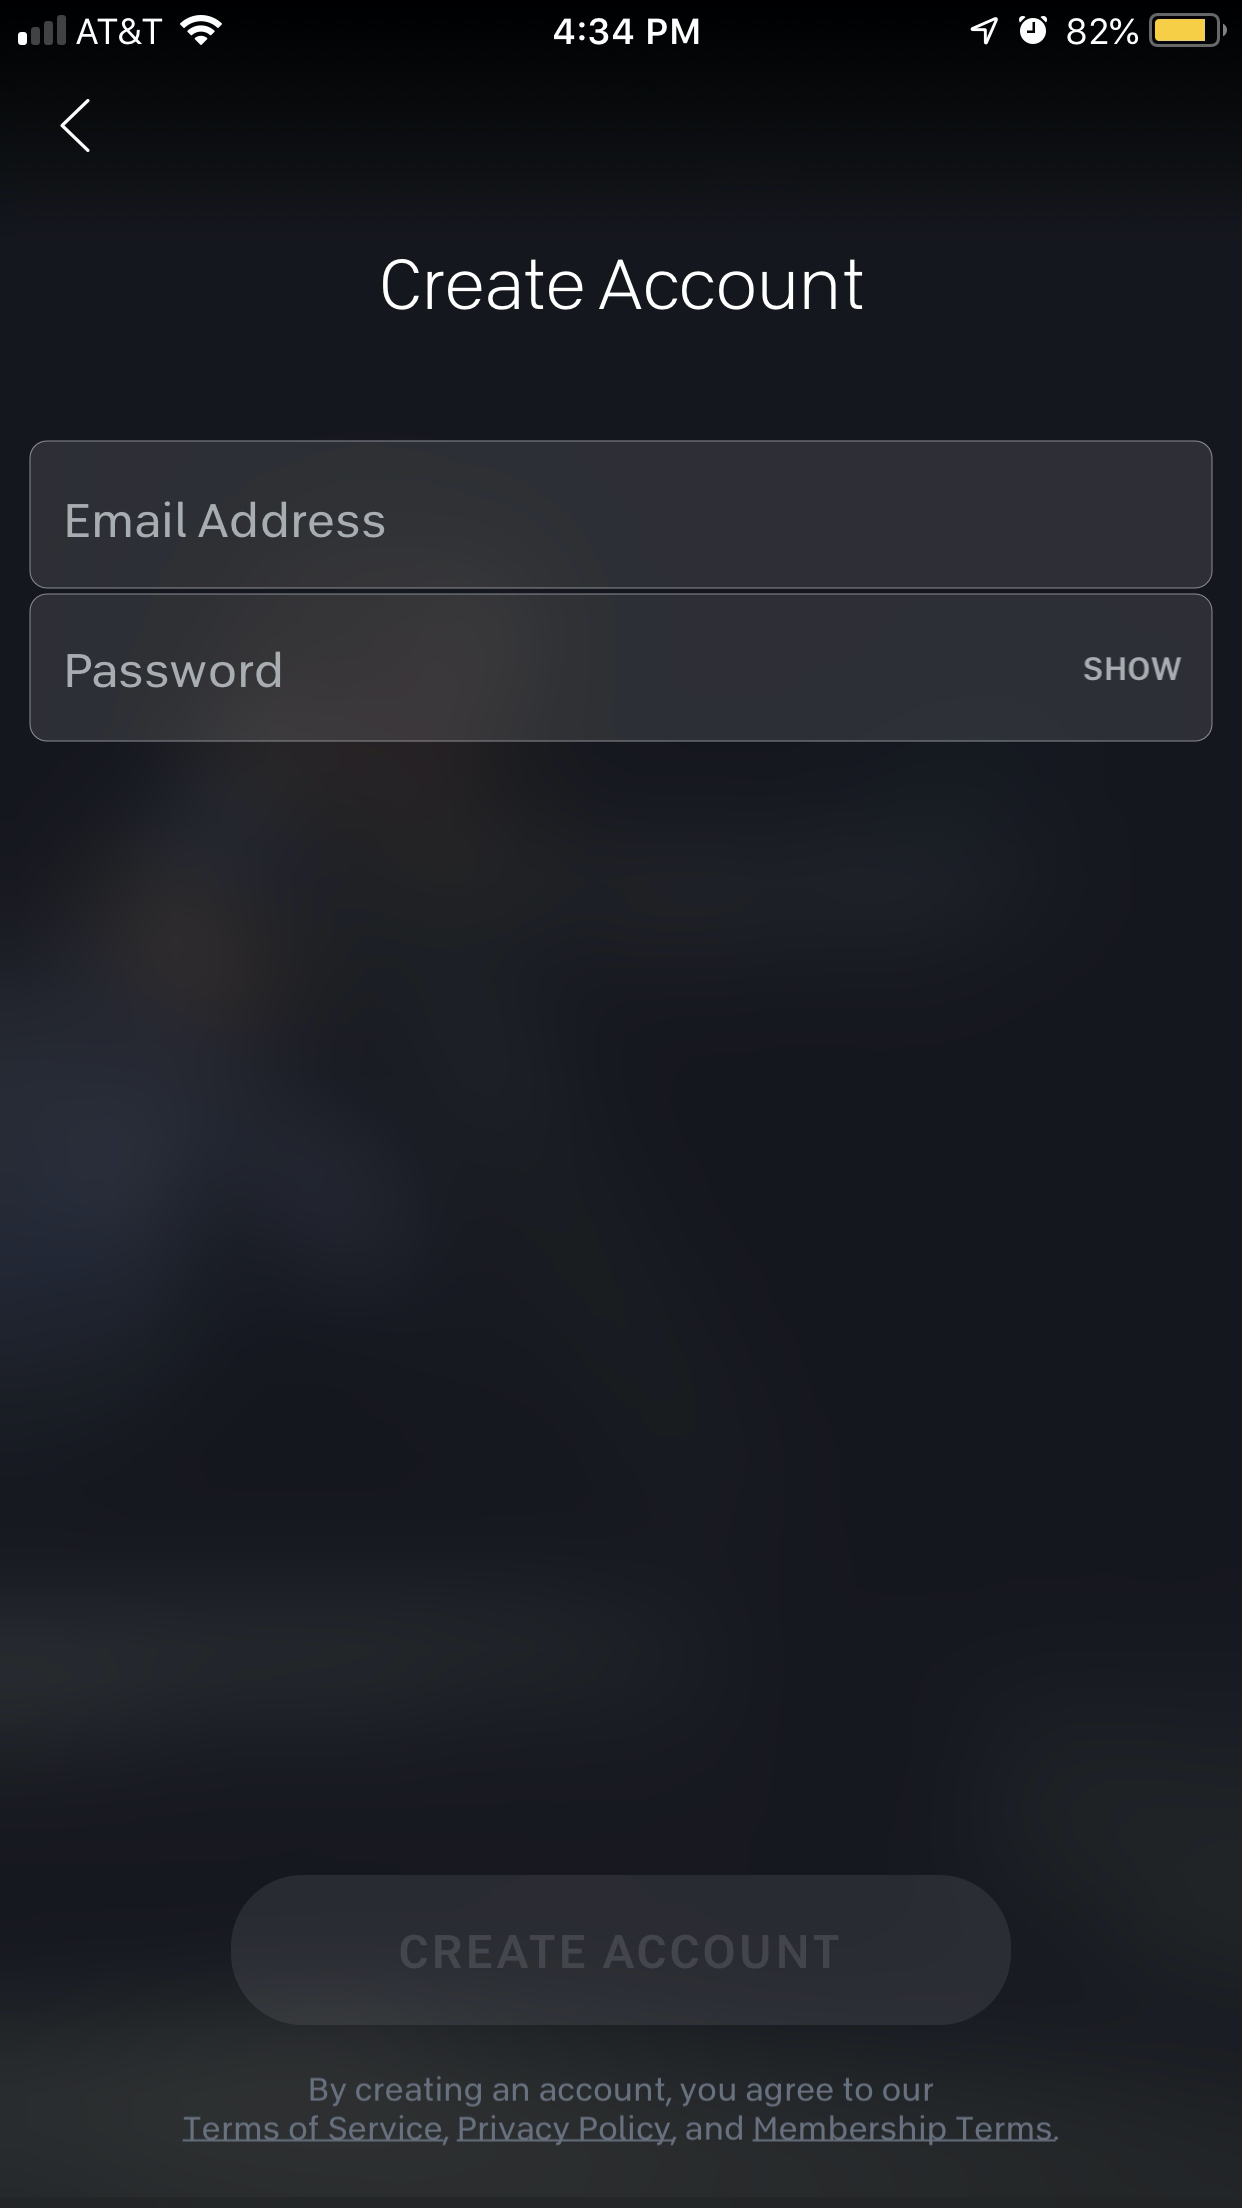EditText: (29, 593, 1213, 743), (29, 440, 1213, 590)
Icon: (61, 99, 93, 155)
Text: (182, 2078, 1059, 2146), (384, 259, 863, 312), (68, 502, 387, 540), (67, 651, 282, 688), (1081, 657, 1183, 682)
TextButton: (231, 1874, 1013, 2028)
UpperTaskBar: (2, 2, 1242, 49)
